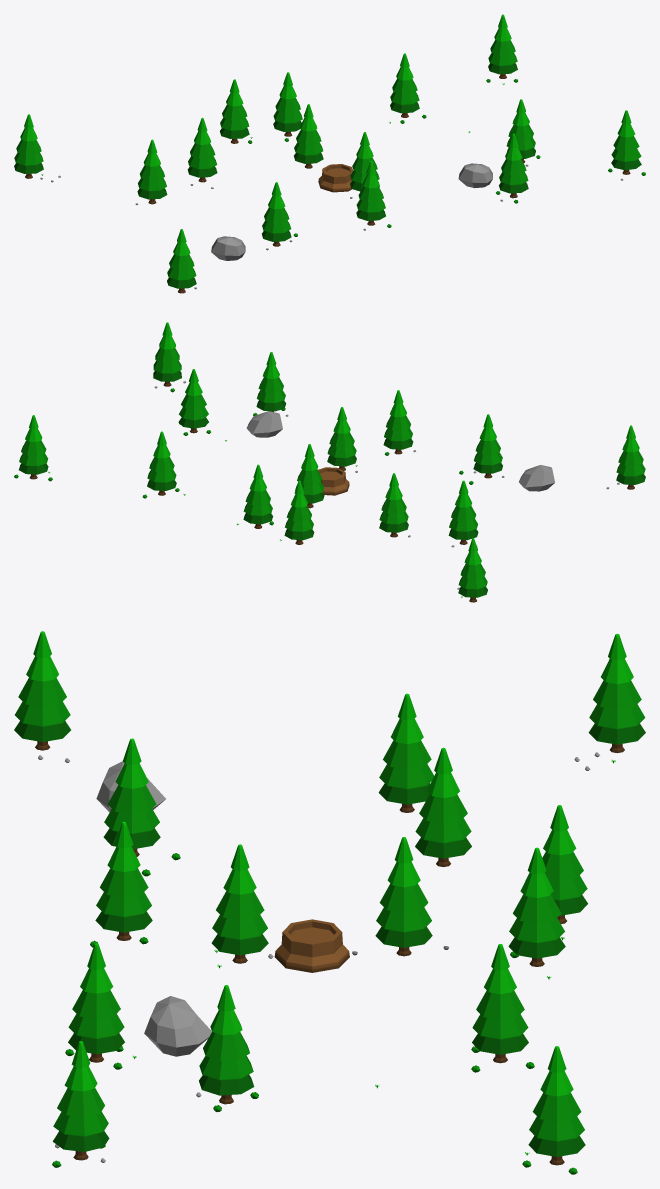
The model's file is Tempat Tarung.fbx.
3 renders of one model, top to bottom at view 1: azimuth 30°, elevation 25°; view 2: azimuth 150°, elevation 25°; view 3: azimuth 270°, elevation 25°, orthographic. The views are drawn at different scales.
Parts seen in each view (by area): view 1: Tempat Tarung; view 2: Tempat Tarung; view 3: Tempat Tarung.
Part boxes in pixels (bbox=[...]): Tempat Tarung: bbox=[14, 14, 645, 293]; Tempat Tarung: bbox=[14, 322, 645, 602]; Tempat Tarung: bbox=[14, 631, 645, 1174].
Bounding box in the file's own units: 3096 × 389 × 1879.
